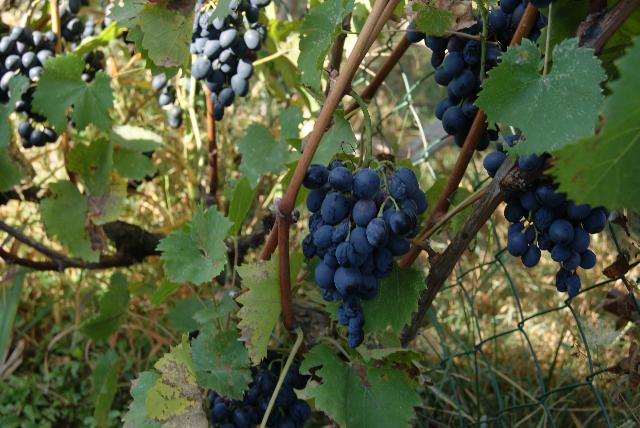grapes: (302, 160, 428, 349), (504, 181, 609, 298), (190, 0, 269, 120), (425, 16, 485, 145), (0, 26, 58, 149), (482, 0, 525, 74)
